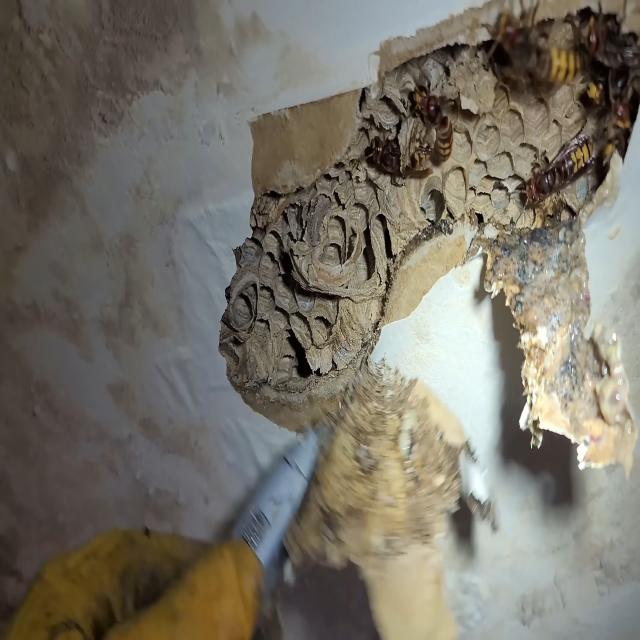Hornets: (516, 114, 596, 220), (406, 78, 454, 173), (360, 130, 428, 184)
